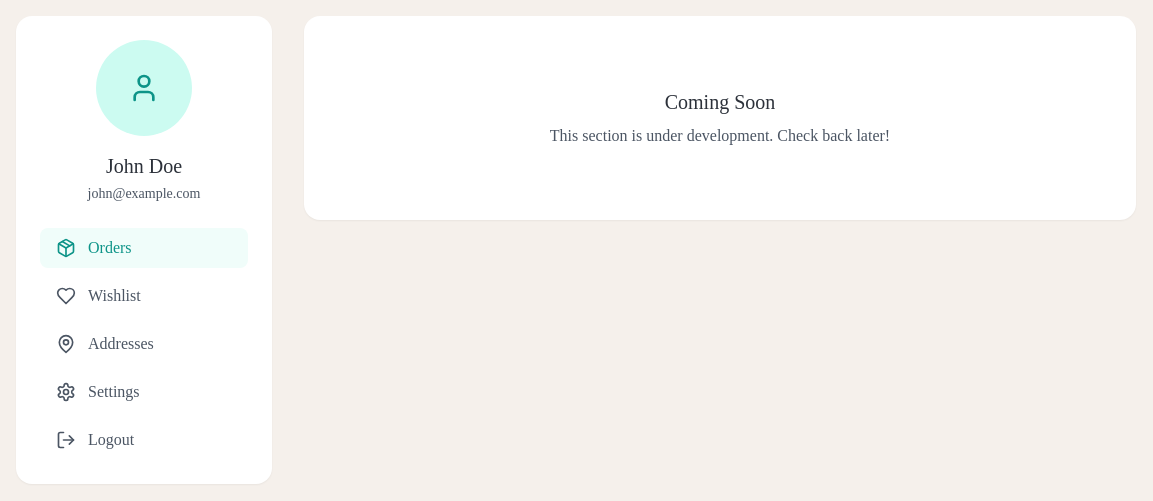
Test: UserProfile › validates required fields when updating profile
The width and height of the screenshot is (1153, 501).
Step 1. Click the button "Settings" → point(144, 392), box [40,372,248,412]
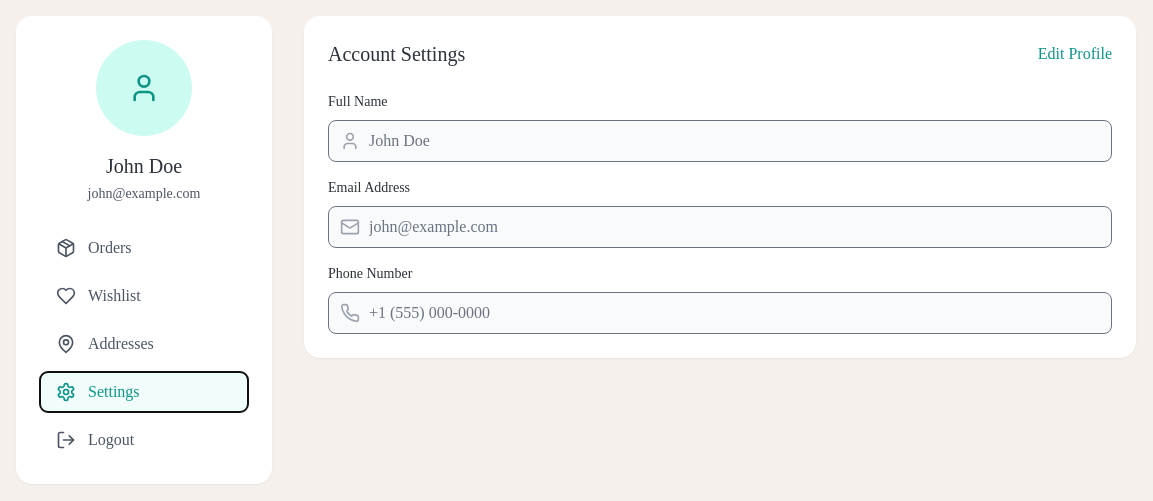
Step 2. Click the button "Edit Profile" → point(1075, 54), box [1038,42,1112,66]
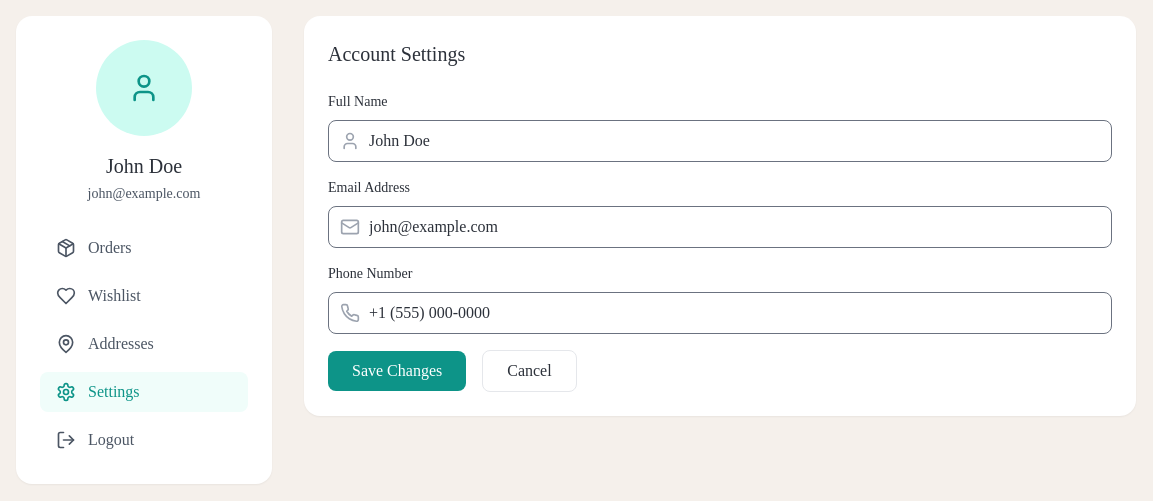
Step 3. Clear the field showing "John Doe" → point(720, 141), box [328,120,1112,162]
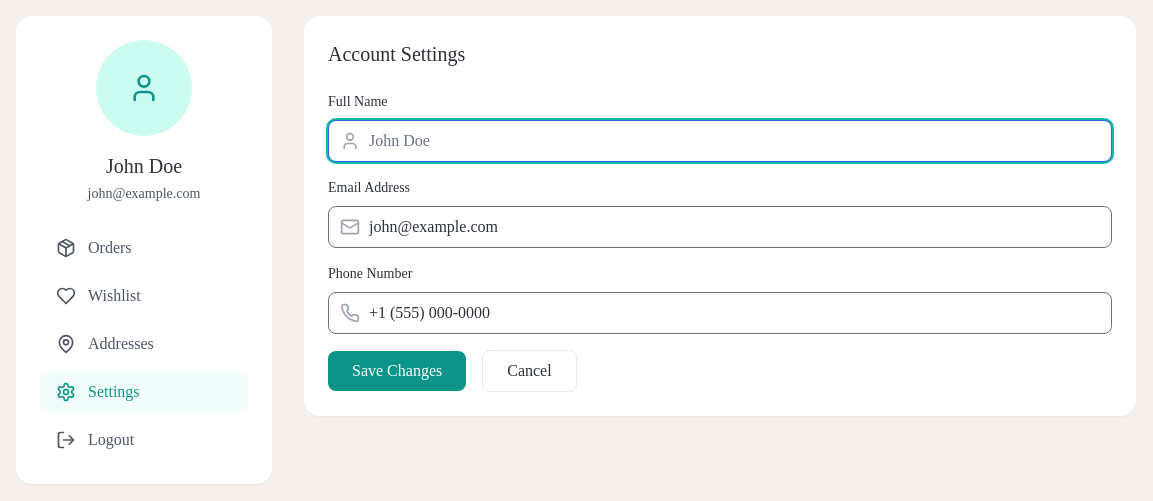
Step 4. Click the button "Save Changes" → point(397, 371), box [328,351,466,391]
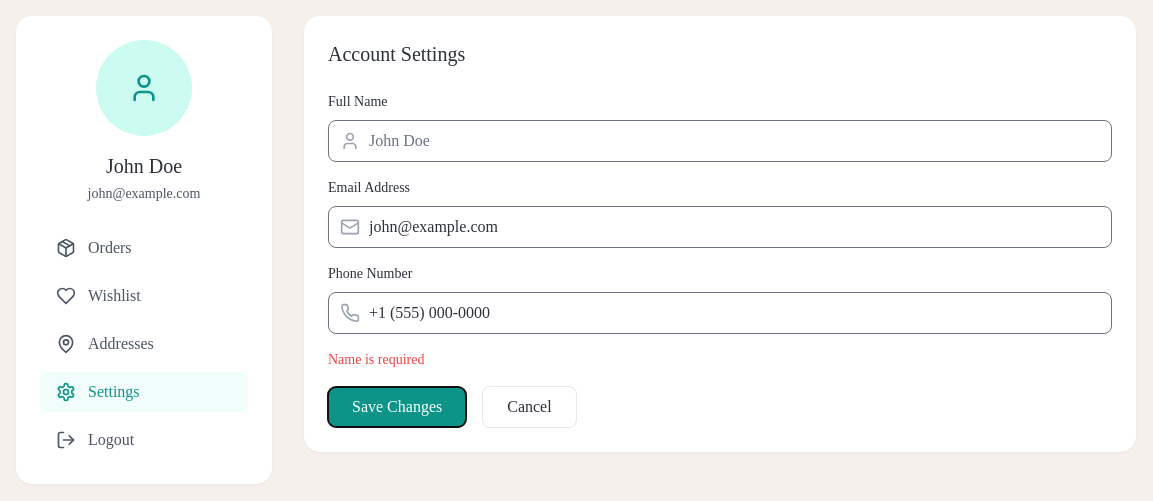
Now the text "Name is required" is shown, box [328,352,424,367]
